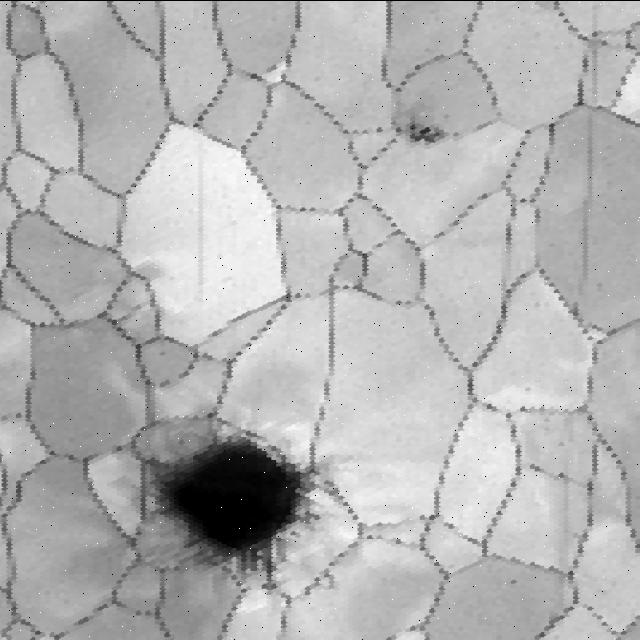good_void: (133, 418, 330, 595), (398, 110, 460, 150), (522, 385, 534, 393), (557, 440, 568, 447), (507, 578, 519, 584)
